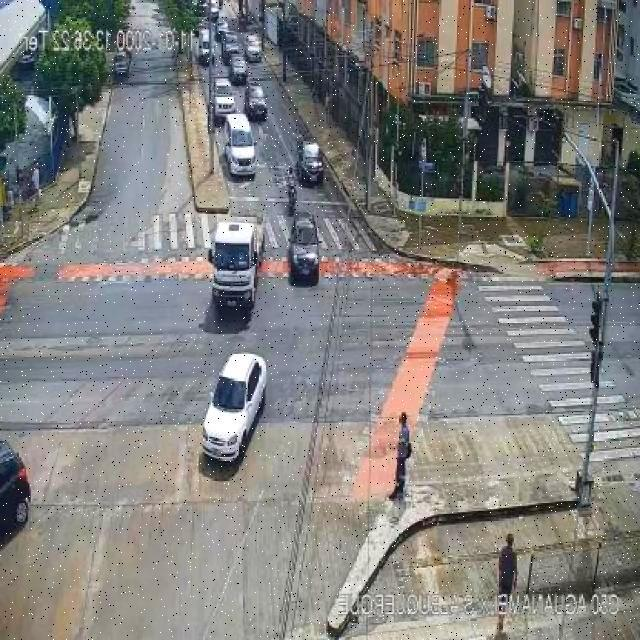Car: (201, 352, 268, 464), (0, 438, 31, 547), (287, 213, 321, 286), (223, 115, 258, 176), (296, 140, 324, 184), (212, 78, 238, 122), (244, 83, 268, 119), (197, 27, 212, 64), (229, 55, 248, 83), (222, 32, 240, 61), (114, 51, 132, 79), (245, 34, 262, 63), (245, 79, 265, 98), (208, 2, 220, 23), (217, 18, 229, 38)
Truck: (208, 220, 264, 311)
